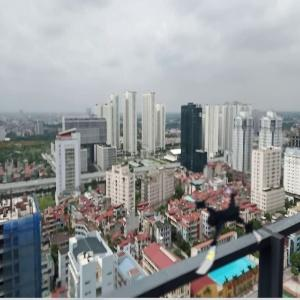drone: (166, 180, 267, 281)
